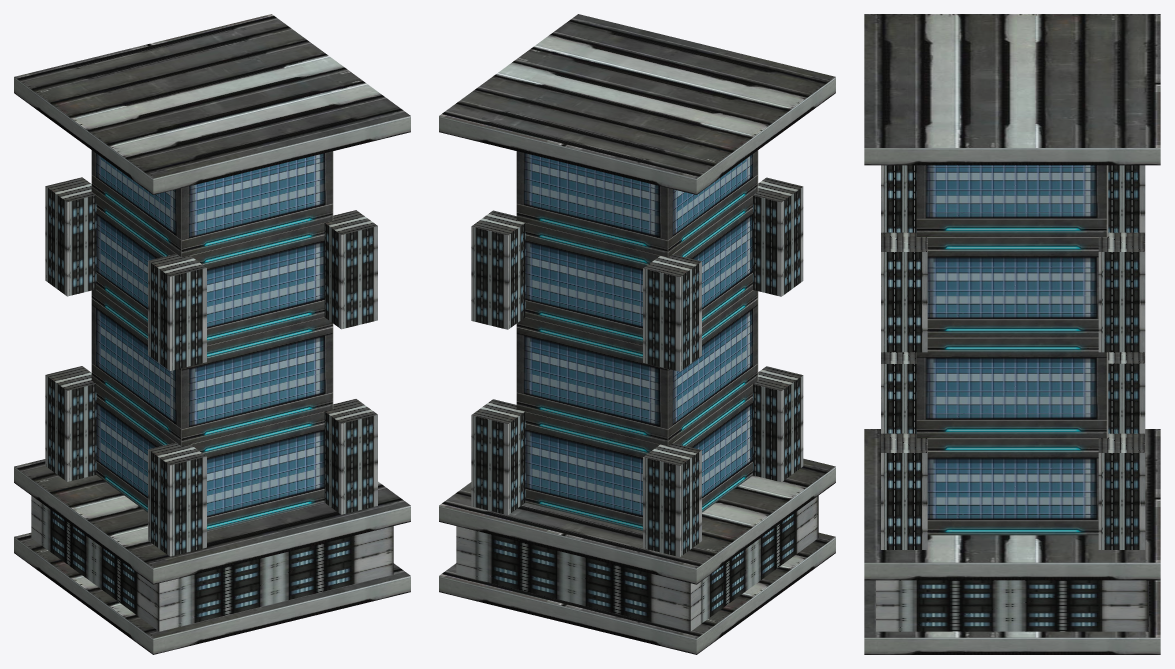
File: building.fbx
3 views of the same model, side by side, from view 1: azimuth 30°, elevation 25°; view 2: azimuth 150°, elevation 25°; view 3: azimuth 270°, elevation 25° (orthographic). The views are drawn at different scales.
Parts seen in each view (by area): view 1: building; view 2: building; view 3: building.
Boxes of the visible parts, x1,y1,x2,y2 form: building: (14, 14, 410, 654); building: (439, 14, 835, 654); building: (864, 14, 1160, 654).
Bounding box in the file's own units: 91.12 × 161 × 85.24.
1 material, 1 textured.
